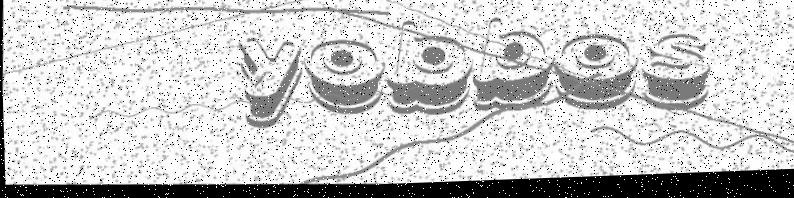b: (383, 20, 474, 123), (469, 18, 554, 124)
o: (550, 35, 644, 121), (301, 38, 391, 120)
s: (636, 30, 713, 116)
y: (225, 34, 305, 132)
